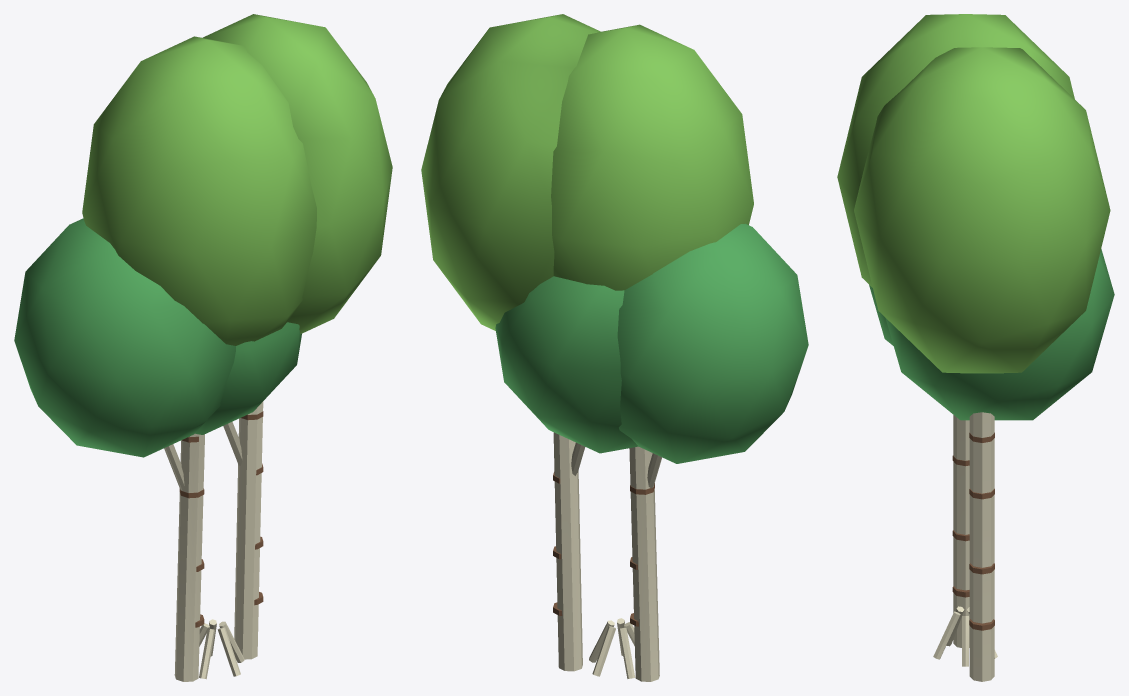
Rendered from tree-birch-low.glb.
3 views of the same model, side by side, from view 1: azimuth 30°, elevation 25°; view 2: azimuth 150°, elevation 25°; view 3: azimuth 270°, elevation 25° (orthographic).
Visible parts, largest first — view 1: rounded crown.001, rounded crown, branch, birch bark; view 2: rounded crown.001, rounded crown, branch; view 3: rounded crown.001, rounded crown, branch, birch bark.
Part boxes in pixels (left/top/right/bottom): rounded crown.001: left=82, top=14, right=392, bottom=345; rounded crown: left=14, top=218, right=301, bottom=457; branch: left=164, top=401, right=263, bottom=681; birch bark: left=179, top=411, right=263, bottom=627; rounded crown.001: left=421, top=14, right=753, bottom=330; rounded crown: left=495, top=223, right=808, bottom=463; branch: left=553, top=432, right=661, bottom=681; rounded crown.001: left=837, top=14, right=1110, bottom=373; rounded crown: left=869, top=249, right=1114, bottom=420; branch: left=933, top=412, right=997, bottom=681; birch bark: left=952, top=432, right=994, bottom=630.
Bounding box in the file's own units: 1.93 × 3.41 × 1.34.
